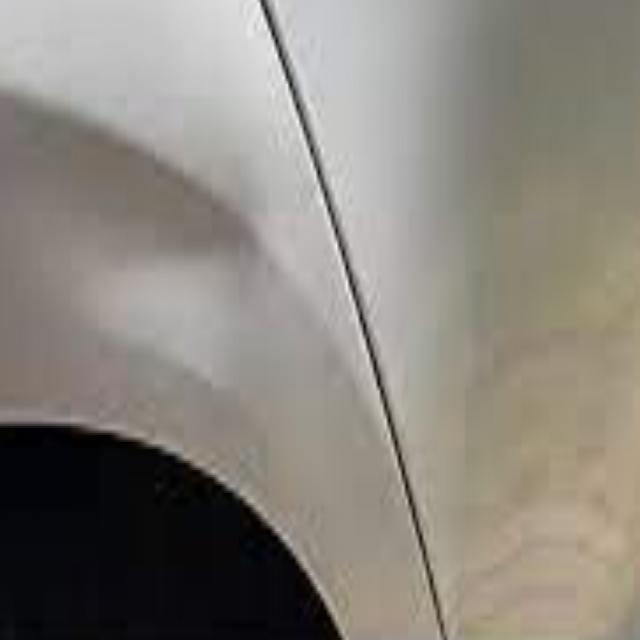dents: (54, 108, 292, 394)
